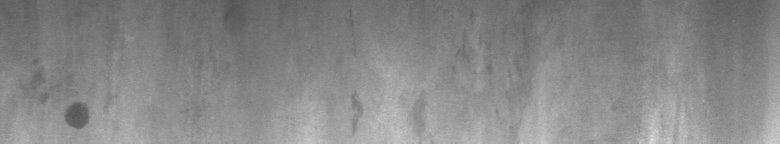fi: (29, 59, 112, 136)
